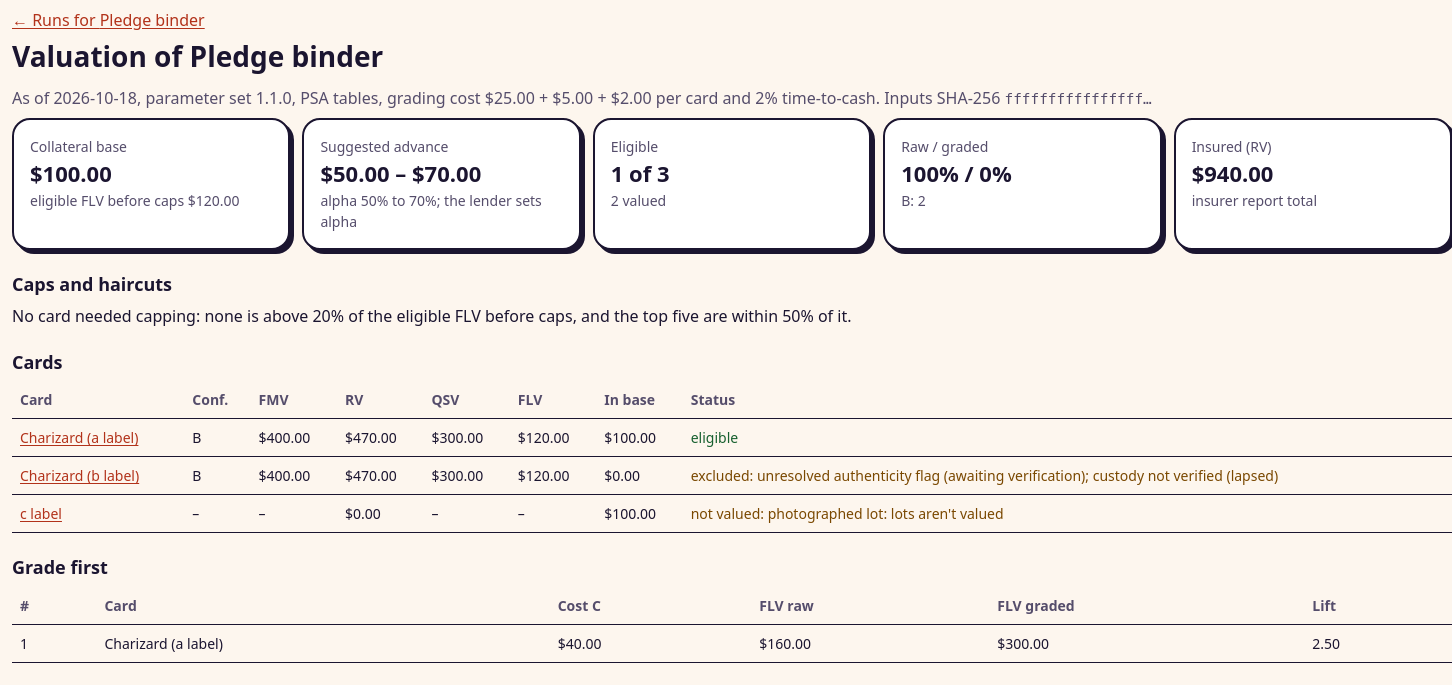
Scenario: ValuationRunPage › shows the base, the suggested range, every exclusion with its reason, and the grade-first list
Expected: the heading "Valuation of Pledge binder" is shown, [12,37,383,75]
Expected: the text "$50.00 – $70.00" is shown, [320,158,481,188]
Click the button "Charizard (a label)": (79, 438) [17,420,142,456]
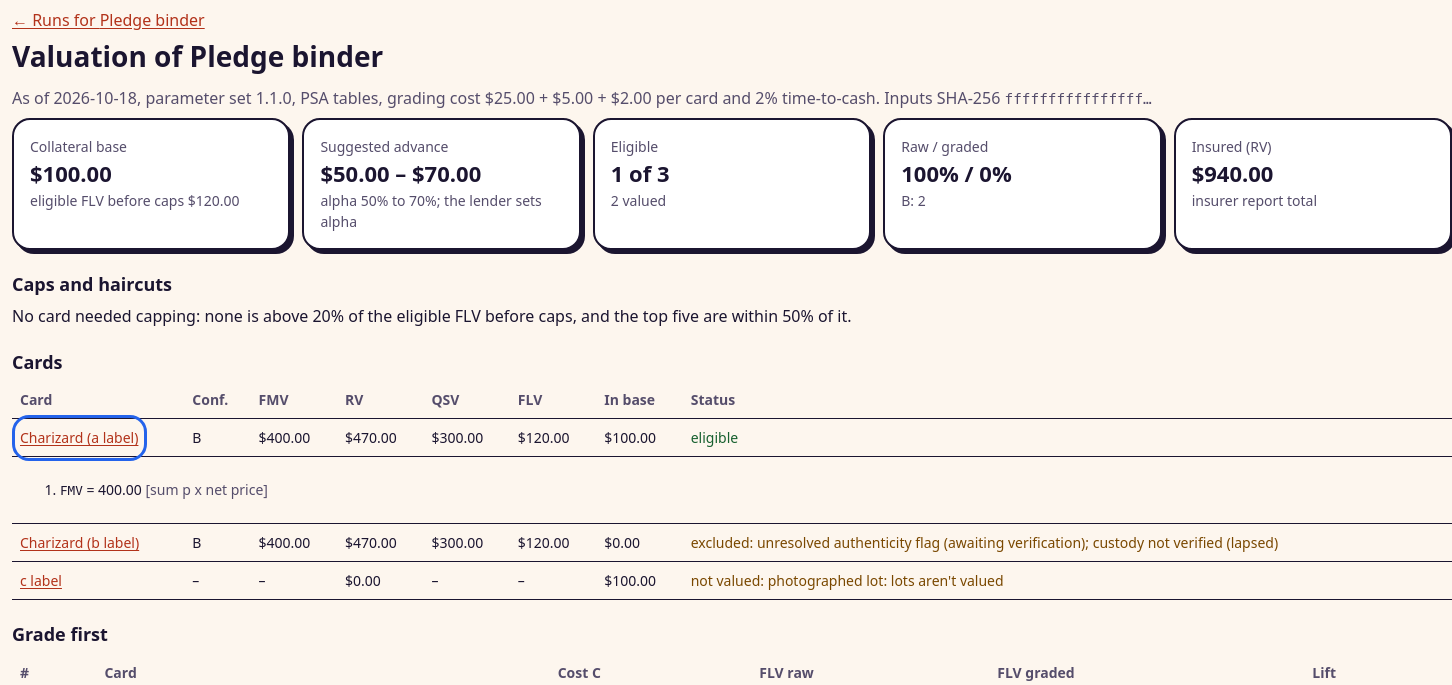
Result: the text "[sum p x net price]" is shown at [146,480,268,499]
